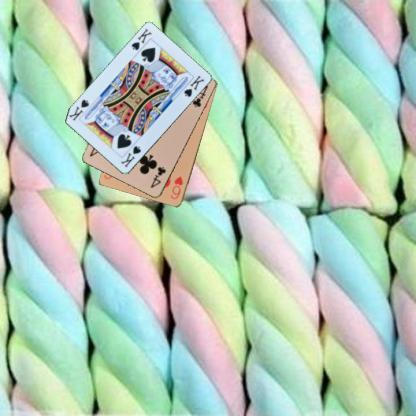4c: (147, 164, 168, 190)
6h: (168, 174, 184, 200)
Ks: (118, 143, 142, 169), (129, 26, 153, 52)
